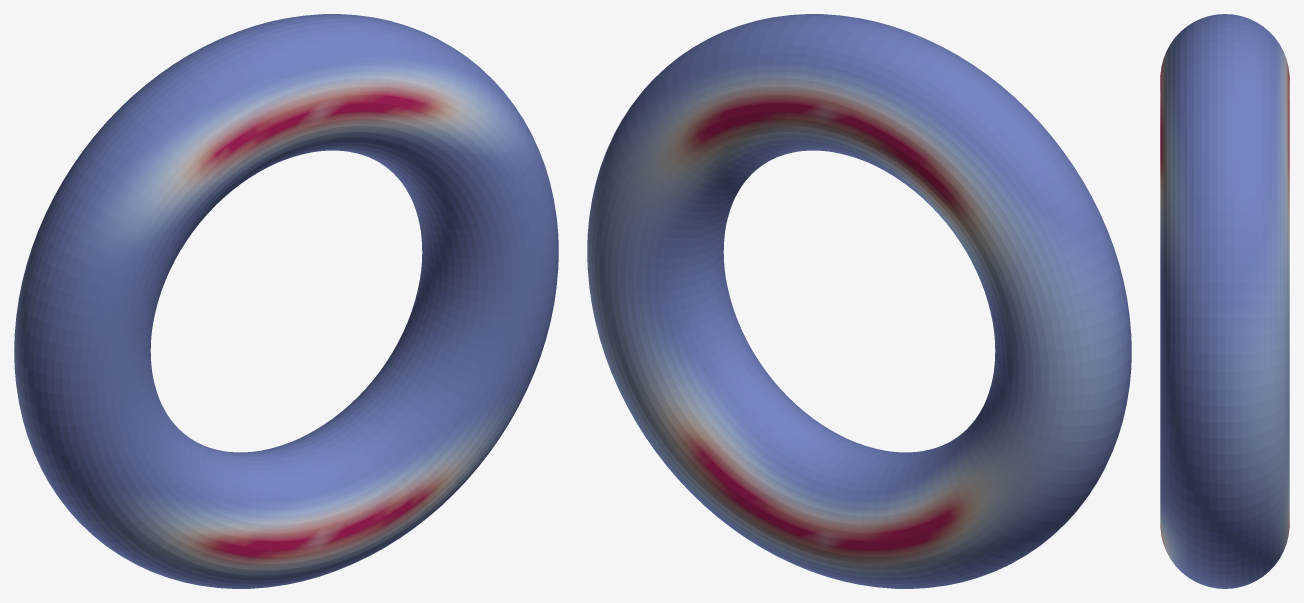
3 renders of one model, left to right at view 1: azimuth 30°, elevation 25°; view 2: azimuth 150°, elevation 25°; view 3: azimuth 270°, elevation 25°, orthographic. The views are drawn at different scales.
Parts seen in each view (by area): view 1: world; view 2: world; view 3: world.
Boxes of the visible parts, x1,y1,x2,y2 form: world: (14, 14, 558, 588); world: (587, 14, 1131, 588); world: (1160, 14, 1289, 588).
Size of the model in its own units: 17.2 by 17.2 by 3.86.
